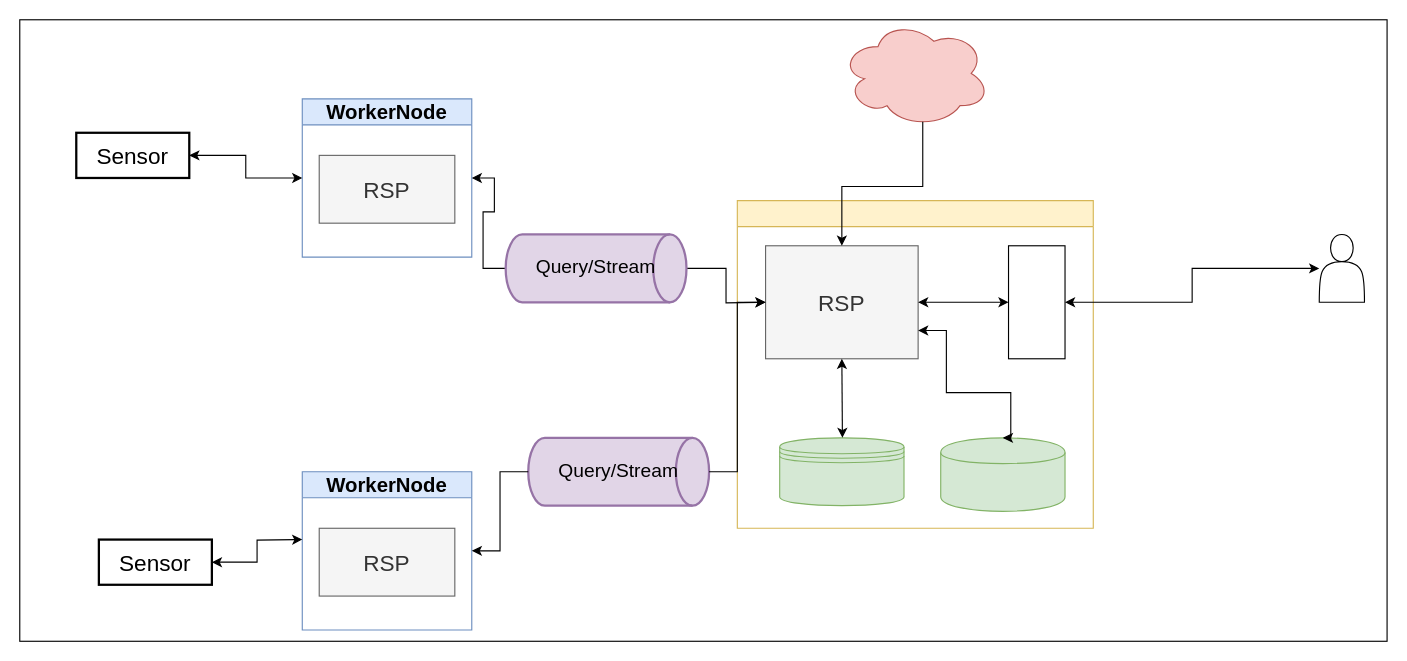
The diagram is 1407 pixels wide and 661 high, and some of its shapes have lost their labels. Each missing label, with the box of its shape:
CityOnto: (840, 19, 990, 127)
DataBase: (779, 437, 904, 506)
MasterNode: (736, 199, 1093, 528)
NodePlatform: (940, 437, 1065, 511)
UCI: (1007, 245, 1065, 359)
